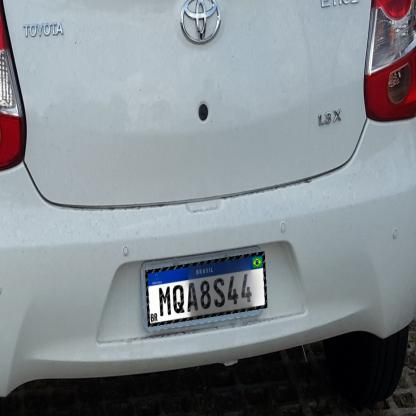PlacaM: (145, 252, 267, 326)
